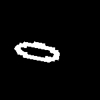chain: (15, 42, 59, 61)
